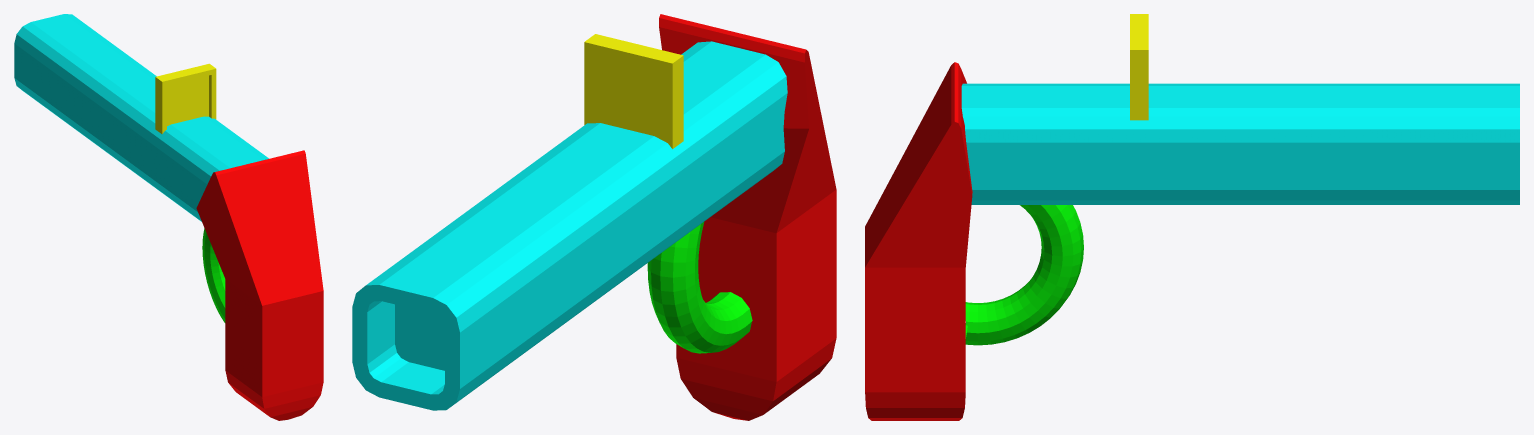
Rendered from Jean Gun.fbx.
3 renders of one model, left to right at view 1: azimuth 30°, elevation 25°; view 2: azimuth 150°, elevation 25°; view 3: azimuth 270°, elevation 25°, orthographic. The views are drawn at different scales.
Visible parts, largest first — view 1: Gun (×4); view 2: Gun (×4); view 3: Gun (×4).
Part boxes in pixels (x1=…): Gun (×4): x1=14, y1=14, x2=323, y2=420; Gun (×4): x1=352, y1=14, x2=836, y2=420; Gun (×4): x1=865, y1=14, x2=1519, y2=420.
Bounding box in the file's own units: 5.14 × 13.7 × 21.39.
